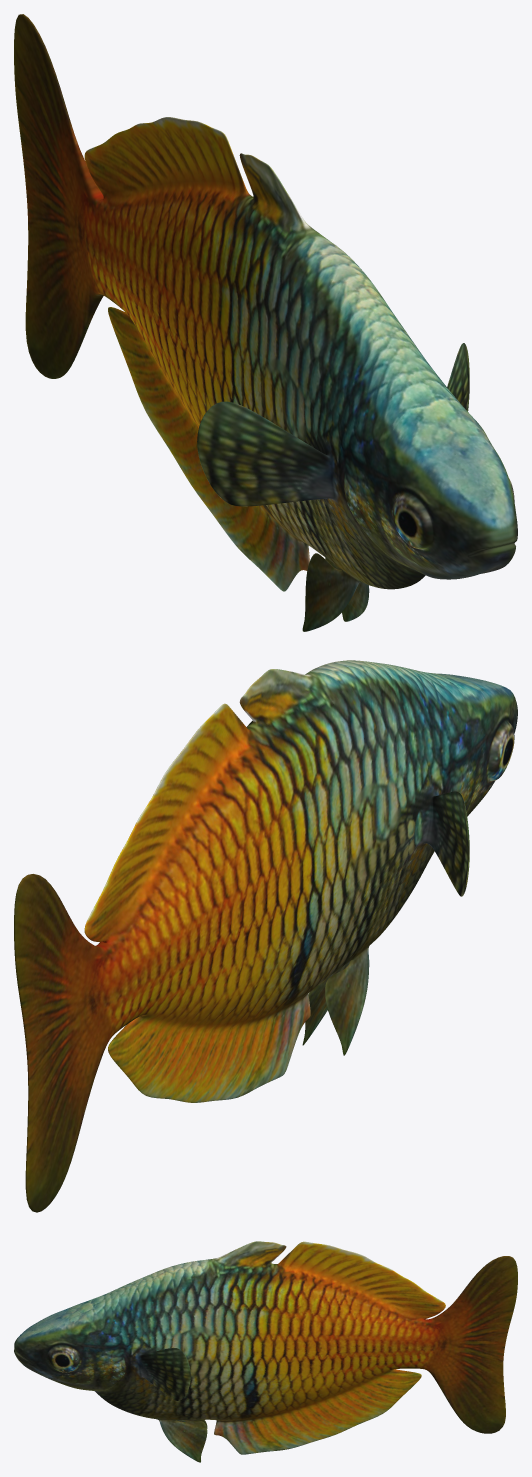
Rendered from Boesemani_Rainbow.obj.
The picture shows the model from 3 angles, top to bottom: view 1: azimuth 30°, elevation 25°; view 2: azimuth 150°, elevation 25°; view 3: azimuth 270°, elevation 25°; orthographic projection. The views are drawn at different scales.
Visible parts, largest first — view 1: Boesemani_Rainbow; view 2: Boesemani_Rainbow; view 3: Boesemani_Rainbow.
Boxes of the visible parts, left/top/right/bottom form: Boesemani_Rainbow: left=14, top=14, right=517, bottom=631; Boesemani_Rainbow: left=14, top=660, right=517, bottom=1212; Boesemani_Rainbow: left=14, top=1241, right=517, bottom=1462.
Bounding box in the file's own units: 3.51 × 5.2 × 10.98.
1 material, 1 textured.
